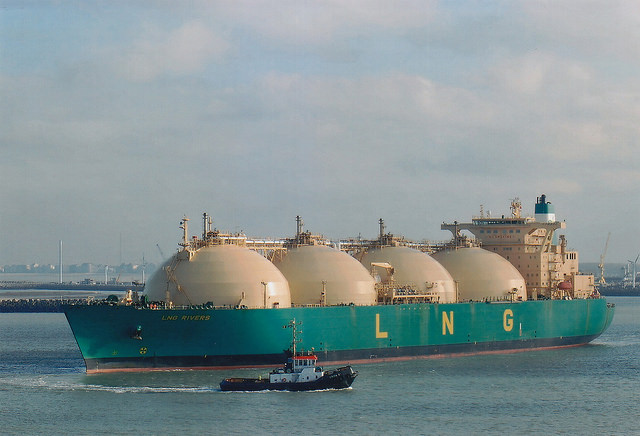LNG_ship: (63, 193, 615, 364)
tug_boat: (215, 333, 359, 393)
